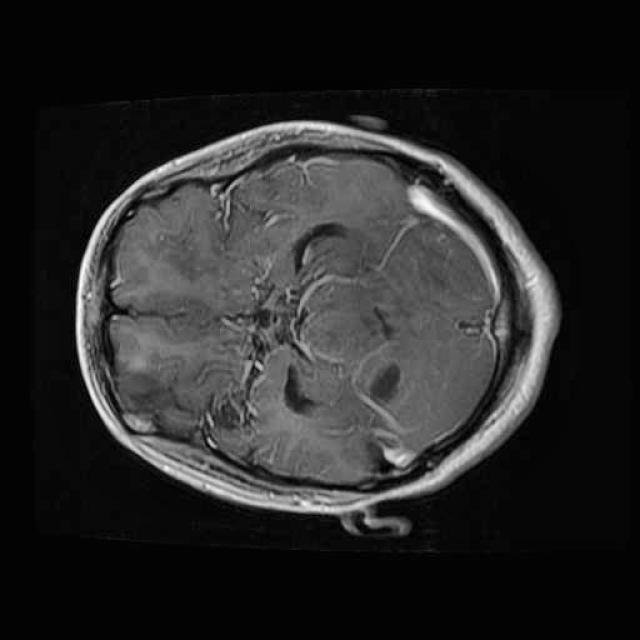Non-Tumor: (355, 348, 416, 418)
